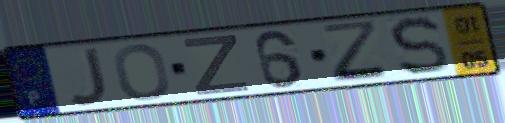6: (253, 27, 305, 91)
J: (65, 45, 111, 108)
O: (111, 42, 173, 102)
S: (386, 14, 452, 78)
Z: (318, 18, 394, 85), (180, 33, 253, 98)
